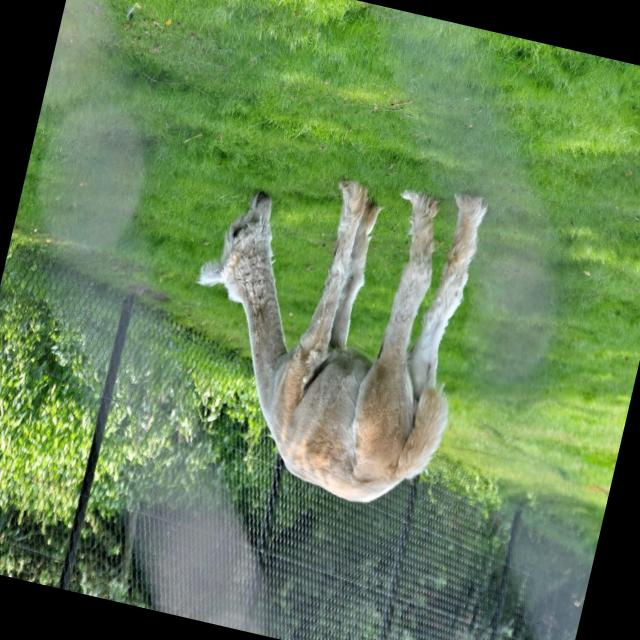alpaca: (156, 136, 494, 520)
